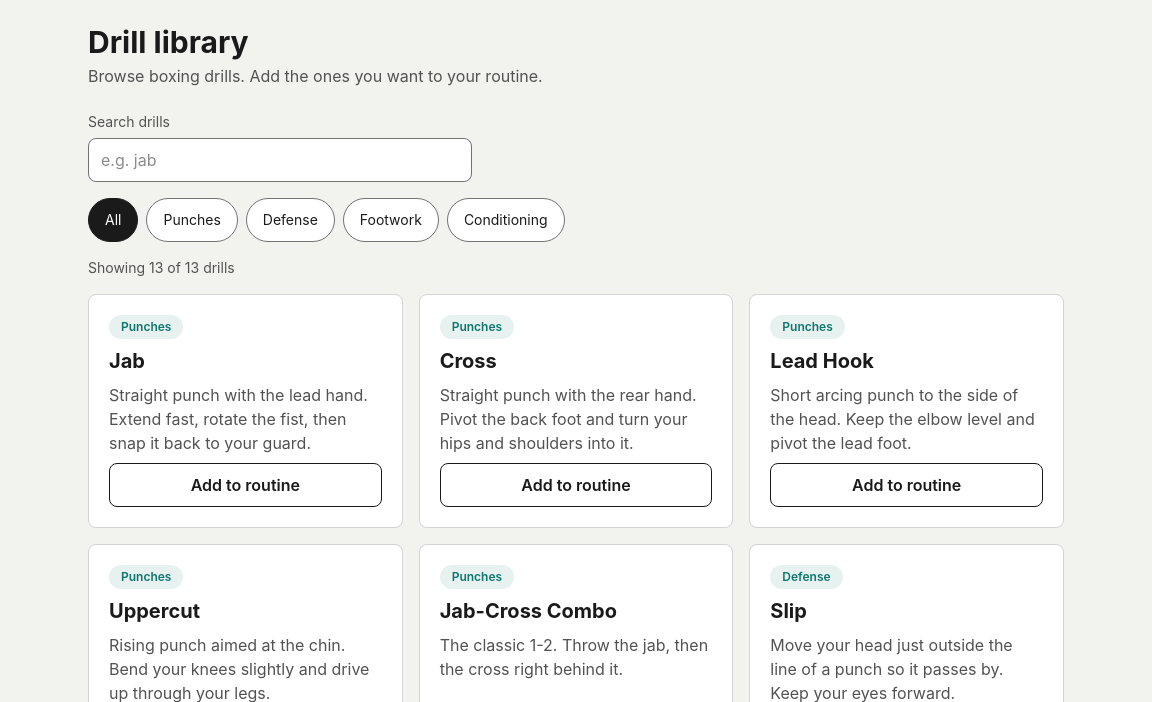
it: Drills page › adds and removes a drill from the routine draft
Click the 1st button "Add to routine": (245, 485) 109,463 -> 382,507
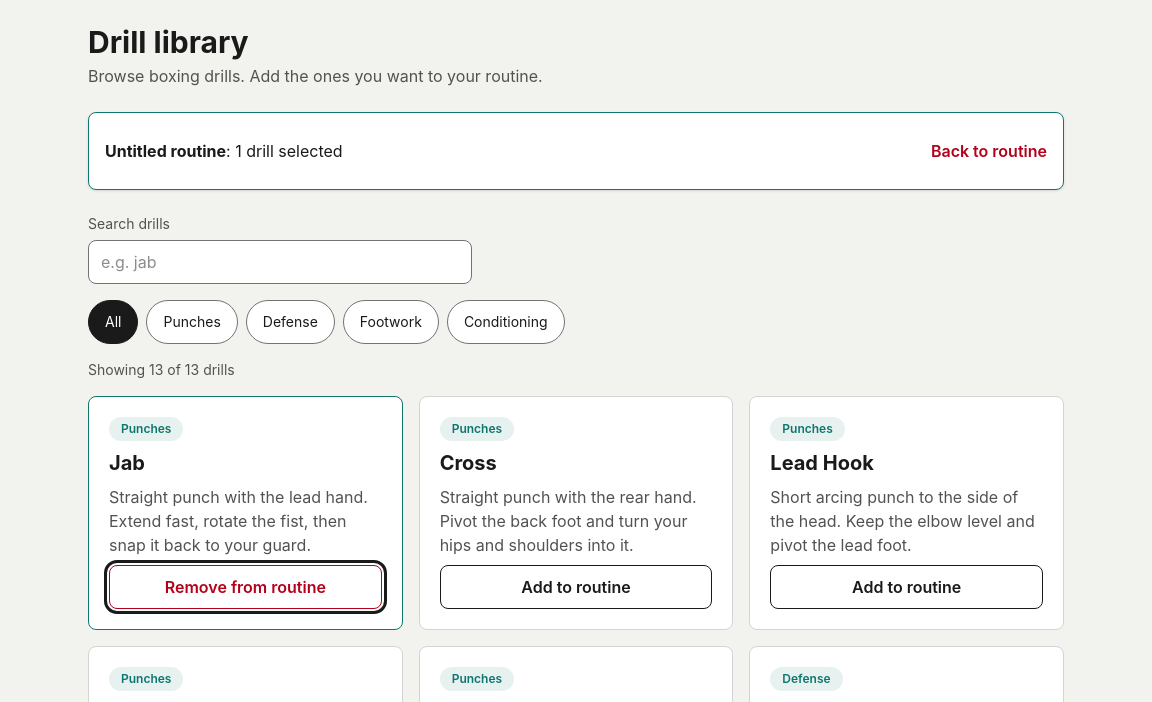
Click the button "Remove from routine": (245, 587) 109,565 -> 382,609
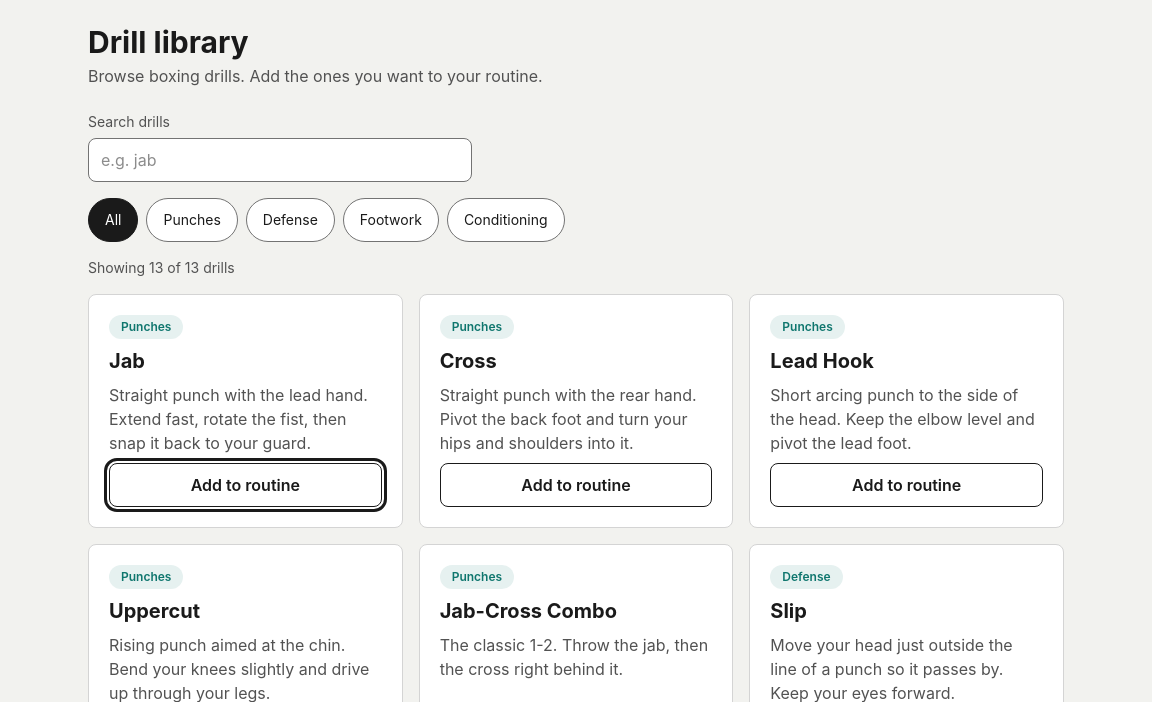
Now the link "Back to routine" is gone
